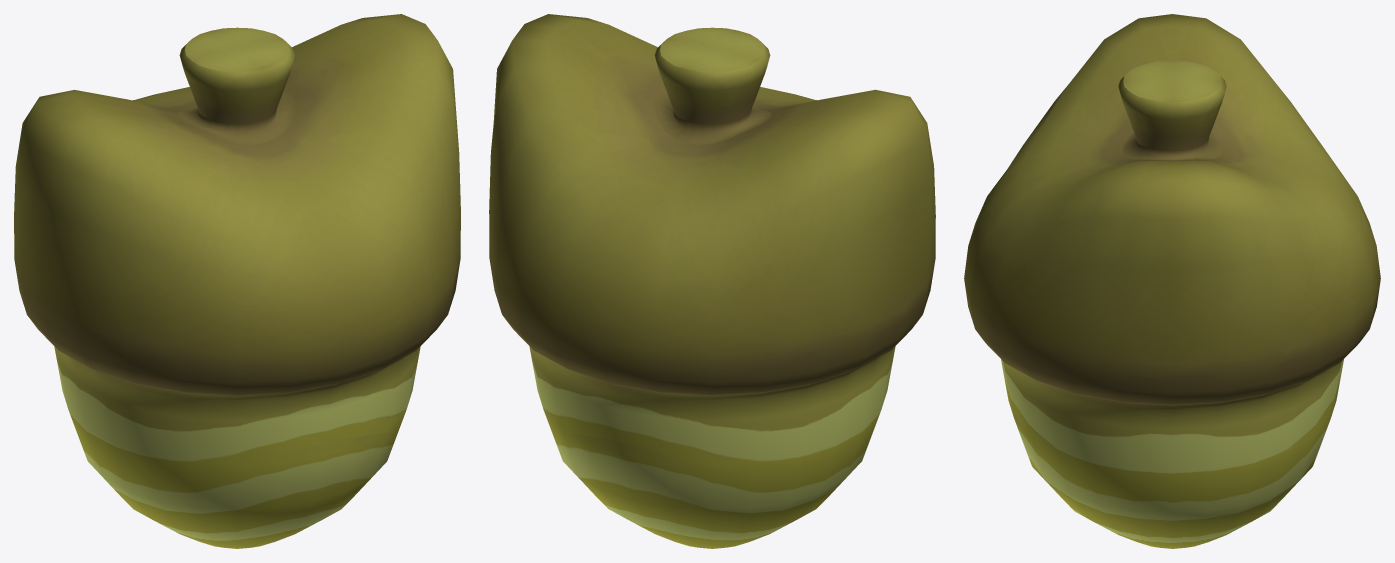
File: acorn_yellow.gltf
3 renders of one model, left to right at view 1: azimuth 30°, elevation 25°; view 2: azimuth 150°, elevation 25°; view 3: azimuth 270°, elevation 25°, orthographic. The views are drawn at different scales.
Parts seen in each view (by area): view 1: acorn_yellow; view 2: acorn_yellow; view 3: acorn_yellow.
Boxes of the visible parts, bbox=[...] form: acorn_yellow: bbox=[14, 14, 460, 548]; acorn_yellow: bbox=[489, 14, 935, 548]; acorn_yellow: bbox=[964, 14, 1380, 548].
Size of the model in its own units: 0.3726 by 0.4402 by 0.3572.
Materials: 1 (1 with a texture image).
